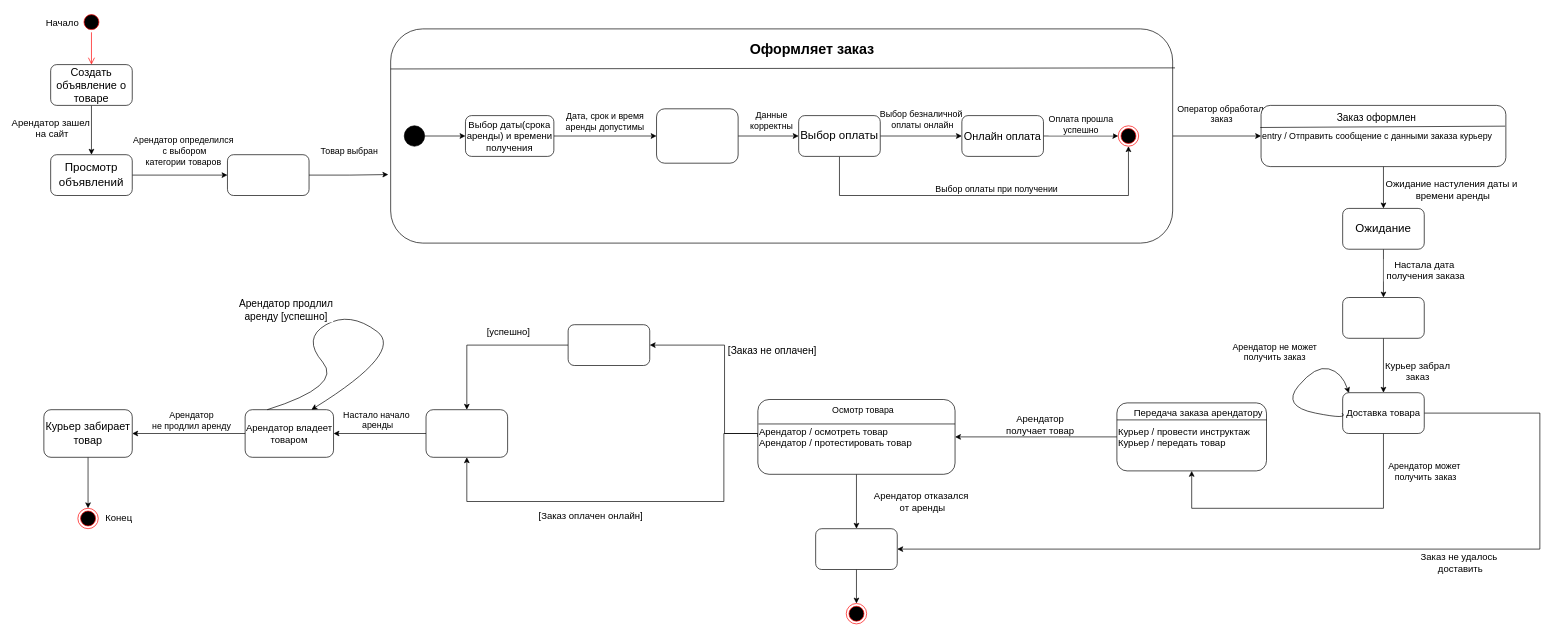
Image size: 1557x636. Some labels were removed from this diagram. Each missing label, with the centre of its shape:
Ввод личных данных(ФИО, номер телефона, адрес доставки): (697,135)
Забрать заказ у арендодателя: (1383,317)
Оплата: (608,345)
Отмена заказа: (856,549)
Подпись документов о получении и согласии аренды: (466,433)
Просмотр конкертного объявления: (268,175)
